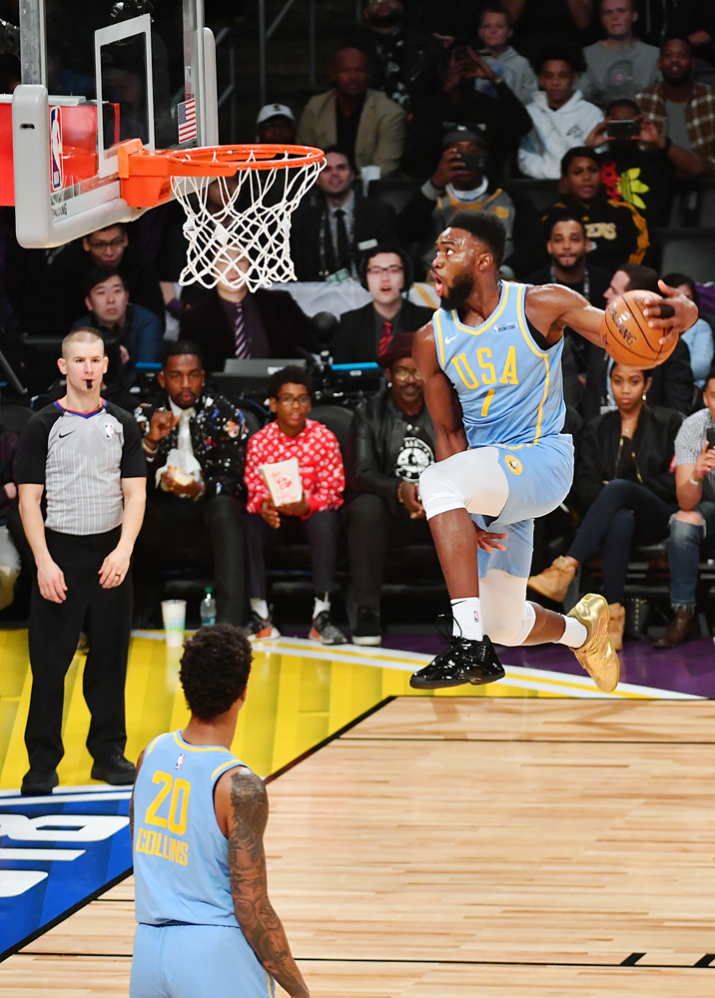ball: (604, 291, 676, 367)
basket: (165, 142, 324, 292)
player: (408, 221, 619, 693), (121, 627, 299, 998), (17, 323, 158, 789)
